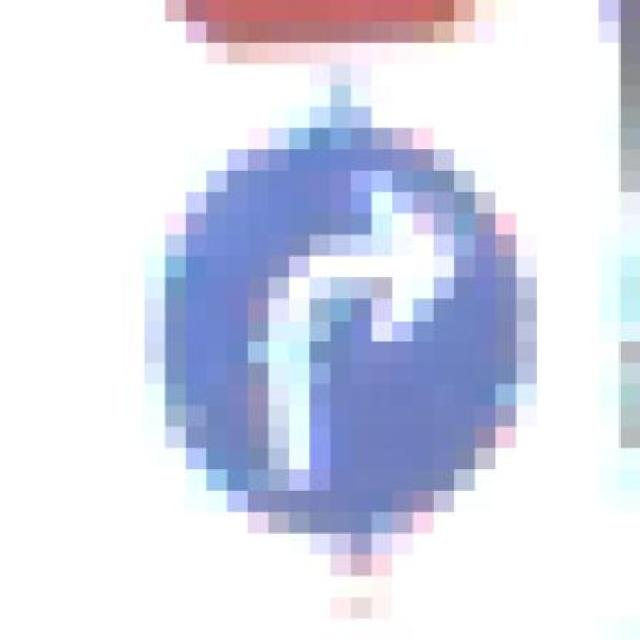Turn right ahead: (124, 63, 558, 554)
